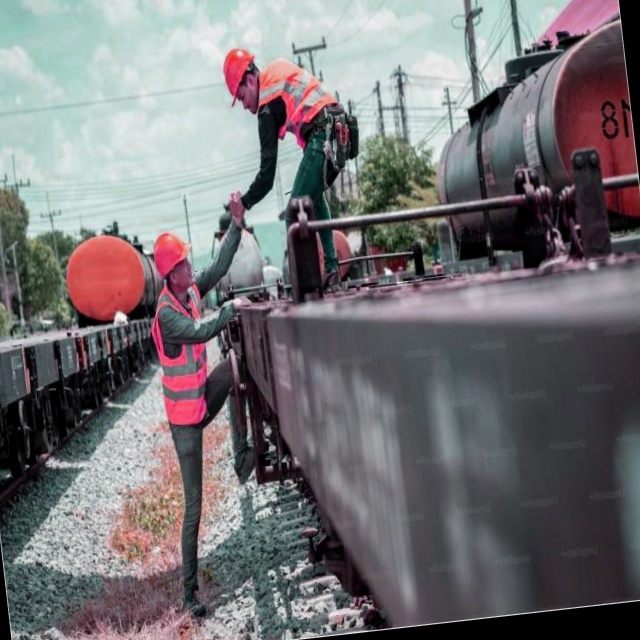Con_Casco: (218, 45, 262, 117), (150, 228, 196, 289)
Con_Chaleco: (149, 286, 217, 425), (257, 55, 342, 143)
